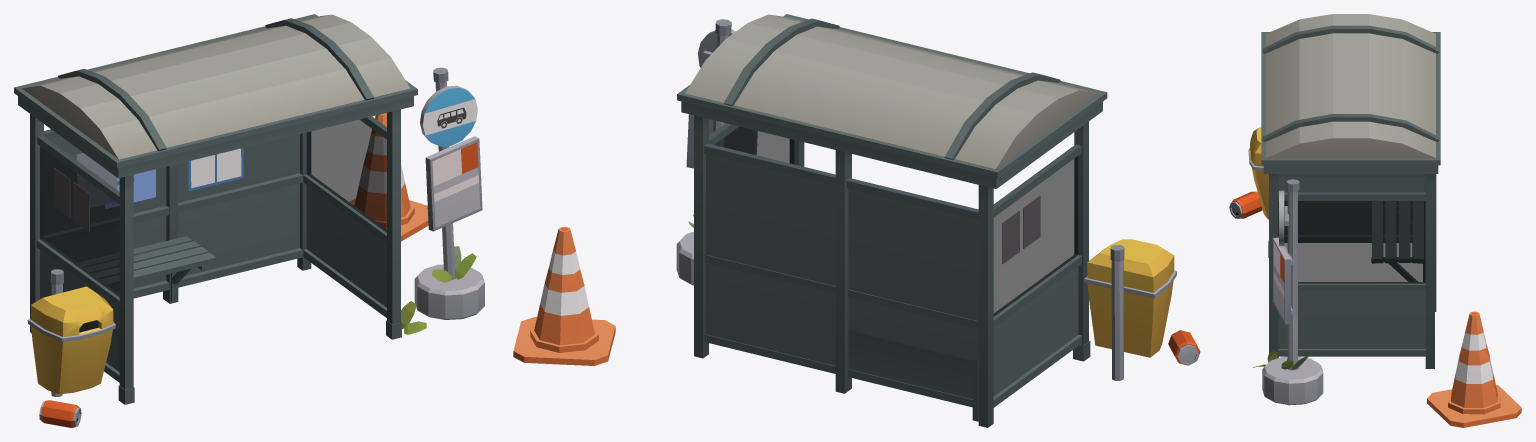
The model's file is Infra_Unit_busStop_mdl.fbx.
3 renders of one model, left to right at view 1: azimuth 30°, elevation 25°; view 2: azimuth 150°, elevation 25°; view 3: azimuth 270°, elevation 25°, orthographic. The views are drawn at different scales.
Visible parts, largest first — view 1: busStop_Unit_mesh; view 2: busStop_Unit_mesh; view 3: busStop_Unit_mesh.
Part boxes in pixels (x1,y1,x2,y2): busStop_Unit_mesh: [14, 14, 484, 427]; busStop_Unit_mesh: [513, 14, 1200, 427]; busStop_Unit_mesh: [1229, 14, 1521, 427].
Size of the model in its own units: 546 by 279 by 307.
